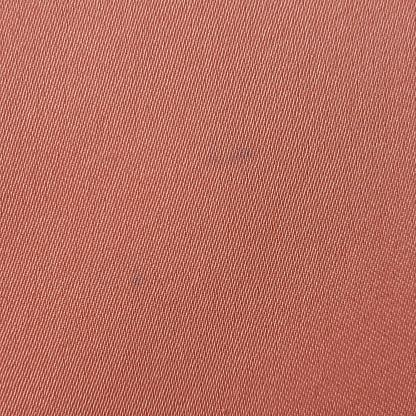spot: (128, 262, 154, 292), (216, 148, 258, 166)
